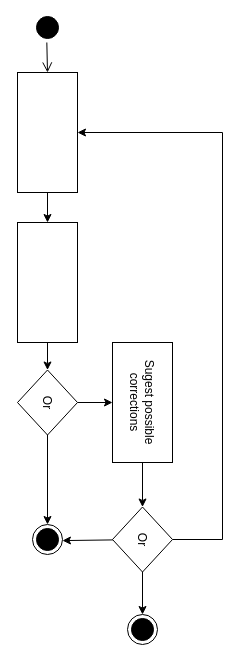
This 248x661 diagram has some shape labels left out. Each missing label, with the box of its shape:
Taking user input string: (16, 72, 78, 192)
Validate string: (16, 222, 78, 342)
